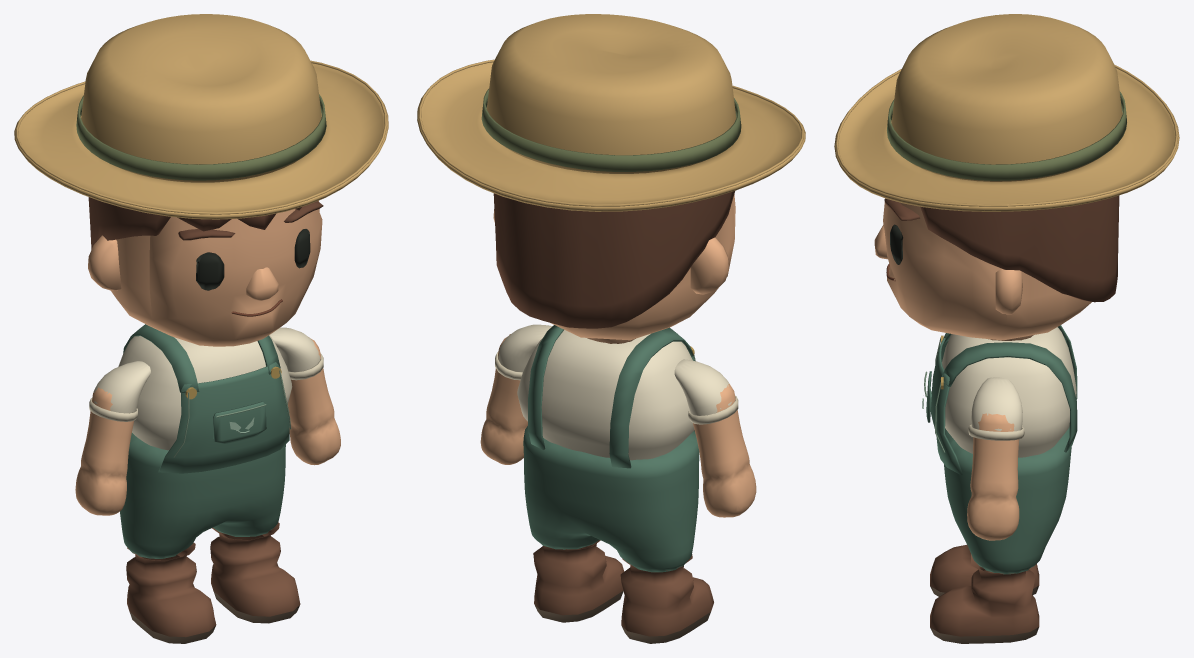
File: gardener-v043.glb
3 views of the same model, side by side, from view 1: azimuth 30°, elevation 25°; view 2: azimuth 150°, elevation 25°; view 3: azimuth 270°, elevation 25° (orthographic). The views are drawn at different scales.
Visible parts, largest first — view 1: Straw crown • shaped shoulder and shallow top, Face and ears • adapted KayKit topology, Straw brim • cambered oval with rolled lip, Overalls • continuous waist seat crotch and legs, Bib • fitted curved denim, Shirt • shaped shoulder and torso mesh, Boot 1 • adapted KayKit mesh, Boot -1 • adapted KayKit mesh, Arm R • mirrored continuous forearm, Hat ribbon • fitted olive band, Arm L • KayKit hand and continuous forearm, Hair • short tapered tousled cap (+7 smaller); view 2: Straw crown • shaped shoulder and shallow top, Hair • short tapered tousled cap, Straw brim • cambered oval with rolled lip, Overalls • continuous waist seat crotch and legs, Shirt • shaped shoulder and torso mesh, Boot -1 • adapted KayKit mesh, Boot 1 • adapted KayKit mesh, Face and ears • adapted KayKit topology, Arm R • mirrored continuous forearm, Hat ribbon • fitted olive band, Shoulder strap -1, Arm L • KayKit hand and continuous forearm (+4 smaller); view 3: Straw crown • shaped shoulder and shallow top, Straw brim • cambered oval with rolled lip, Face and ears • adapted KayKit topology, Hair • short tapered tousled cap, Shirt • shaped shoulder and torso mesh, Overalls • continuous waist seat crotch and legs, Boot 1 • adapted KayKit mesh, Arm L • KayKit hand and continuous forearm, Hat ribbon • fitted olive band, Shoulder strap 1, Sleeve 1, Boot -1 • adapted KayKit mesh (+3 smaller).
Boxes of the visible parts, bbox=[...] form: Straw crown • shaped shoulder and shallow top: bbox=[81, 14, 321, 182]; Face and ears • adapted KayKit topology: bbox=[88, 200, 322, 346]; Straw brim • cambered oval with rolled lip: bbox=[14, 63, 388, 219]; Overalls • continuous waist seat crotch and legs: bbox=[120, 433, 285, 558]; Bib • fitted curved denim: bbox=[158, 362, 289, 473]; Shirt • shaped shoulder and torso mesh: bbox=[118, 335, 292, 450]; Boot 1 • adapted KayKit mesh: bbox=[210, 522, 300, 623]; Boot -1 • adapted KayKit mesh: bbox=[126, 542, 216, 643]; Arm R • mirrored continuous forearm: bbox=[75, 387, 133, 515]; Hat ribbon • fitted olive band: bbox=[76, 94, 326, 180]; Arm L • KayKit hand and continuous forearm: bbox=[287, 337, 340, 465]; Hair • short tapered tousled cap: bbox=[88, 197, 301, 249]; Straw crown • shaped shoulder and shallow top: bbox=[486, 14, 736, 173]; Hair • short tapered tousled cap: bbox=[493, 191, 734, 328]; Straw brim • cambered oval with rolled lip: bbox=[417, 62, 805, 211]; Overalls • continuous waist seat crotch and legs: bbox=[523, 426, 699, 572]; Shirt • shaped shoulder and torso mesh: bbox=[517, 330, 694, 460]; Boot -1 • adapted KayKit mesh: bbox=[620, 554, 713, 643]; Boot 1 • adapted KayKit mesh: bbox=[533, 540, 624, 622]; Face and ears • adapted KayKit topology: bbox=[493, 194, 735, 340]; Arm R • mirrored continuous forearm: bbox=[693, 384, 756, 517]; Hat ribbon • fitted olive band: bbox=[481, 88, 741, 171]; Shoulder strap -1: bbox=[609, 327, 693, 468]; Arm L • KayKit hand and continuous forearm: bbox=[480, 334, 527, 464]; Straw crown • shaped shoulder and shallow top: bbox=[891, 14, 1122, 181]; Straw brim • cambered oval with rolled lip: bbox=[834, 68, 1179, 211]; Face and ears • adapted KayKit topology: bbox=[874, 198, 1091, 340]; Hair • short tapered tousled cap: bbox=[920, 195, 1119, 302]; Shirt • shaped shoulder and torso mesh: bbox=[942, 327, 1076, 457]; Overalls • continuous waist seat crotch and legs: bbox=[944, 426, 1071, 574]; Boot 1 • adapted KayKit mesh: bbox=[930, 554, 1039, 643]; Arm L • KayKit hand and continuous forearm: bbox=[967, 413, 1019, 540]; Hat ribbon • fitted olive band: bbox=[887, 91, 1126, 180]; Shoulder strap 1: bbox=[940, 342, 1077, 452]; Sleeve 1: bbox=[971, 377, 1022, 431]; Boot -1 • adapted KayKit mesh: bbox=[930, 544, 1039, 596].
Size of the model in its own units: 1.46 by 2.31 by 1.3.
